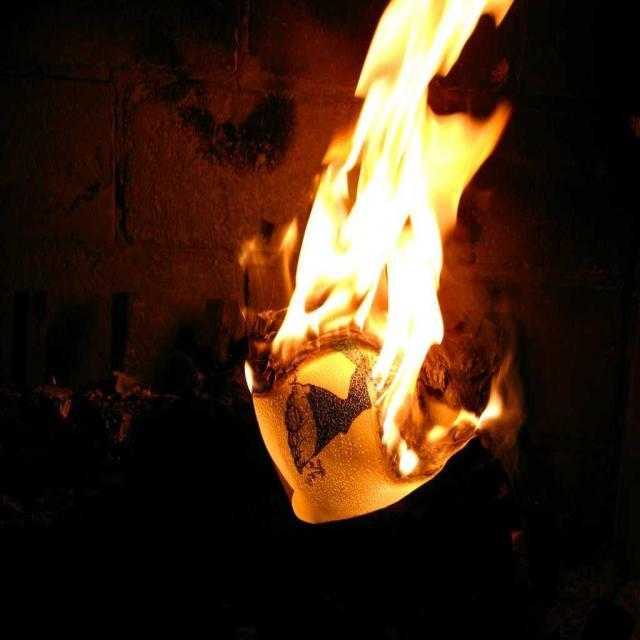Fire: (362, 119, 452, 238), (308, 245, 437, 322), (379, 7, 430, 112)
